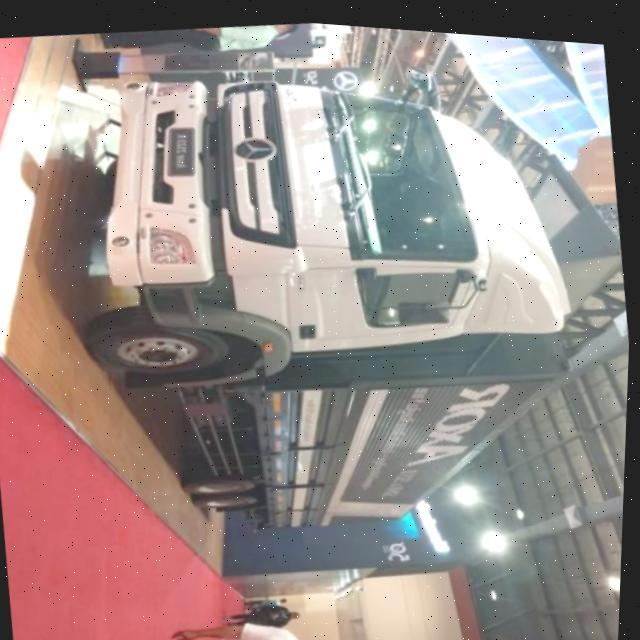truck: (74, 23, 626, 564)
